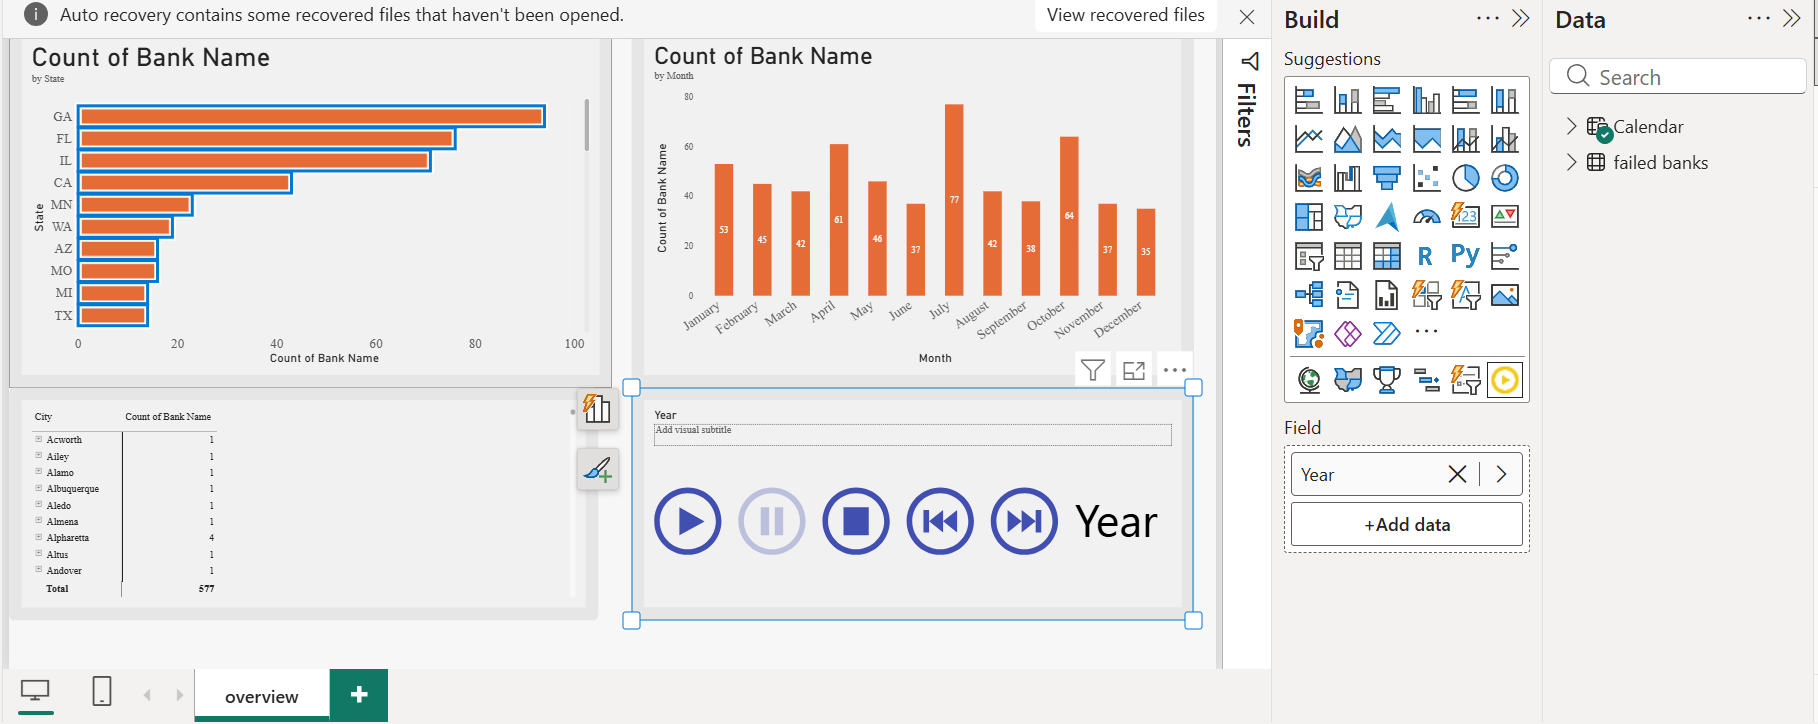

The dashboard page shown, as its layout file describes it:
{"tool":"powerbi","page":{"name":"overview","canvas":[1920,1080],"ordinal":0},"visuals":[{"type":"barChart","fields":{"Category":["failed banks.State "],"Y":["CountNonNull(failed banks.Bank Name )"]},"box":[0,47.7,959.1,584.5],"z":0},{"type":"columnChart","fields":{"Category":["Calendar.Month"],"Y":["CountNonNull(failed banks.Bank Name )"]},"box":[990.2,47.7,894.7,584.5],"z":1},{"type":"pivotTable","fields":{"Rows":["failed banks.City ","failed banks.State "],"Values":["CountNonNull(failed banks.Bank Name )"]},"box":[0,632.3,937.7,369.8],"z":2},{"type":"PBI_CV_16948668_E17D_454B_8664_2F2C470EA8C1","fields":{"category":["Calendar.Year"]},"box":[990,633,895,369],"z":3}]}

Visuals, with their boxes on the page's 1920x1080 design canvas (x1, y1, x2, y2). These are canvas units, not pixel positions in the 1818x724 screenshot, which may show the page scaled, cropped or inside an application window:
barChart - failed banks.State  x CountNonNull(failed banks.Bank Name ): l=0, t=48, r=959, b=632
columnChart - Calendar.Month x CountNonNull(failed banks.Bank Name ): l=990, t=48, r=1885, b=632
pivotTable - failed banks.City  x failed banks.State : l=0, t=632, r=938, b=1002
PBI_CV_16948668_E17D_454B_8664_2F2C470EA8C1 - Calendar.Year: l=990, t=633, r=1885, b=1002
